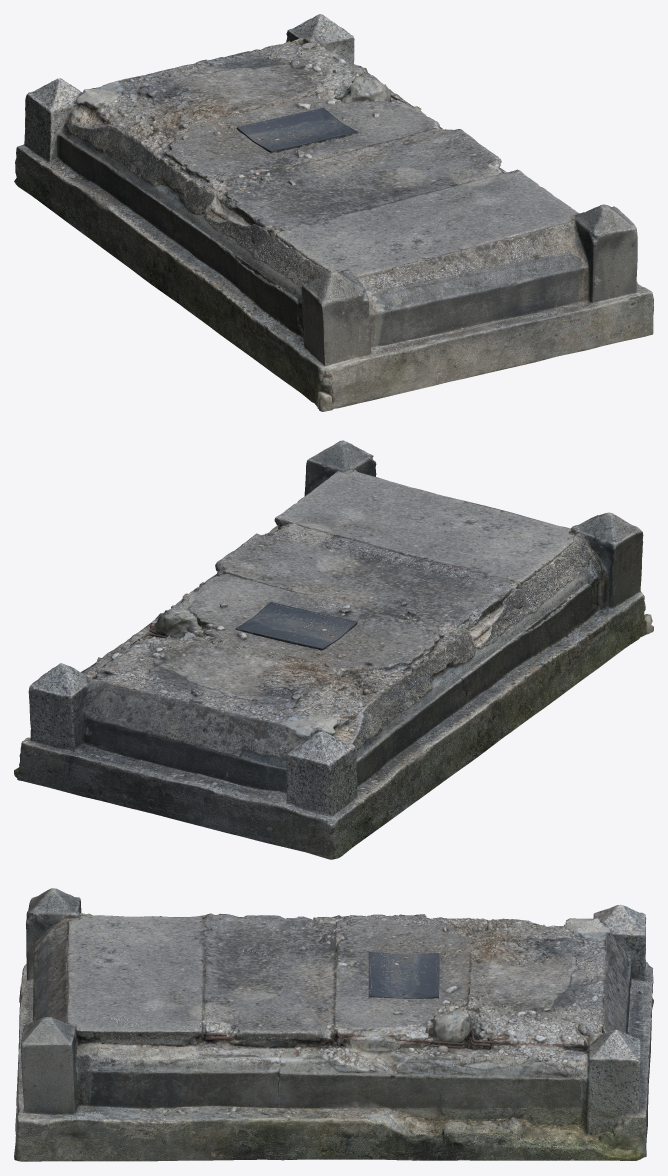
Rendered from sm_Grave_02_02.fbx.
3 views of the same model, one above another, from view 1: azimuth 30°, elevation 25°; view 2: azimuth 150°, elevation 25°; view 3: azimuth 270°, elevation 25° (orthographic).
Visible parts, largest first — view 1: sm_Grave_02_02_LOD0; view 2: sm_Grave_02_02_LOD0; view 3: sm_Grave_02_02_LOD0.
Part boxes in pixels (<box>): sm_Grave_02_02_LOD0: <box>14,14,653,411</box>; sm_Grave_02_02_LOD0: <box>14,440,653,859</box>; sm_Grave_02_02_LOD0: <box>14,888,653,1161</box>.
Bounding box in the file's own units: 152 × 250 × 54.29.
